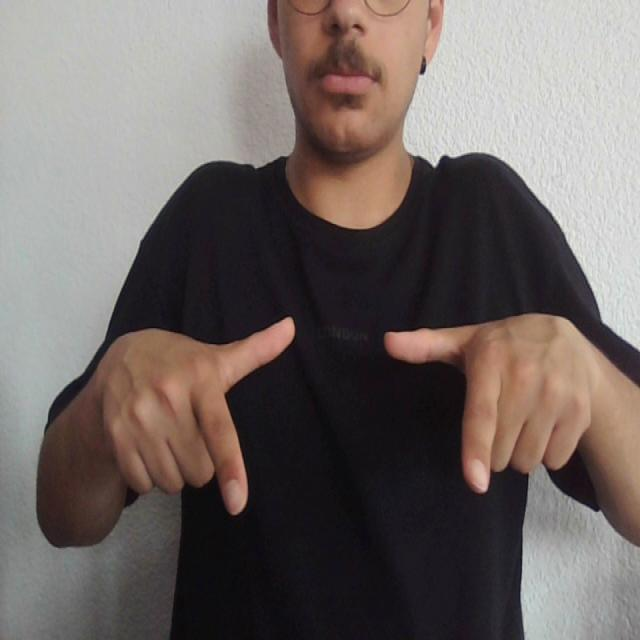Nerede: (189, 299, 507, 536)
